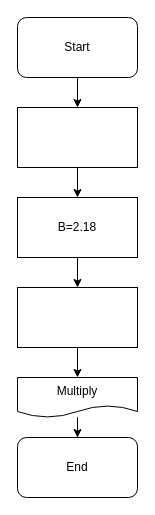
Image size: 155x515. Some labels were removed from this diagram. The shapes that lost their labels are listed below. From the top down, each one's centre as x and y in pixels, then its label:
At [77,137]: "A=1.75".
At [77,317]: "Multiply=A*B".
